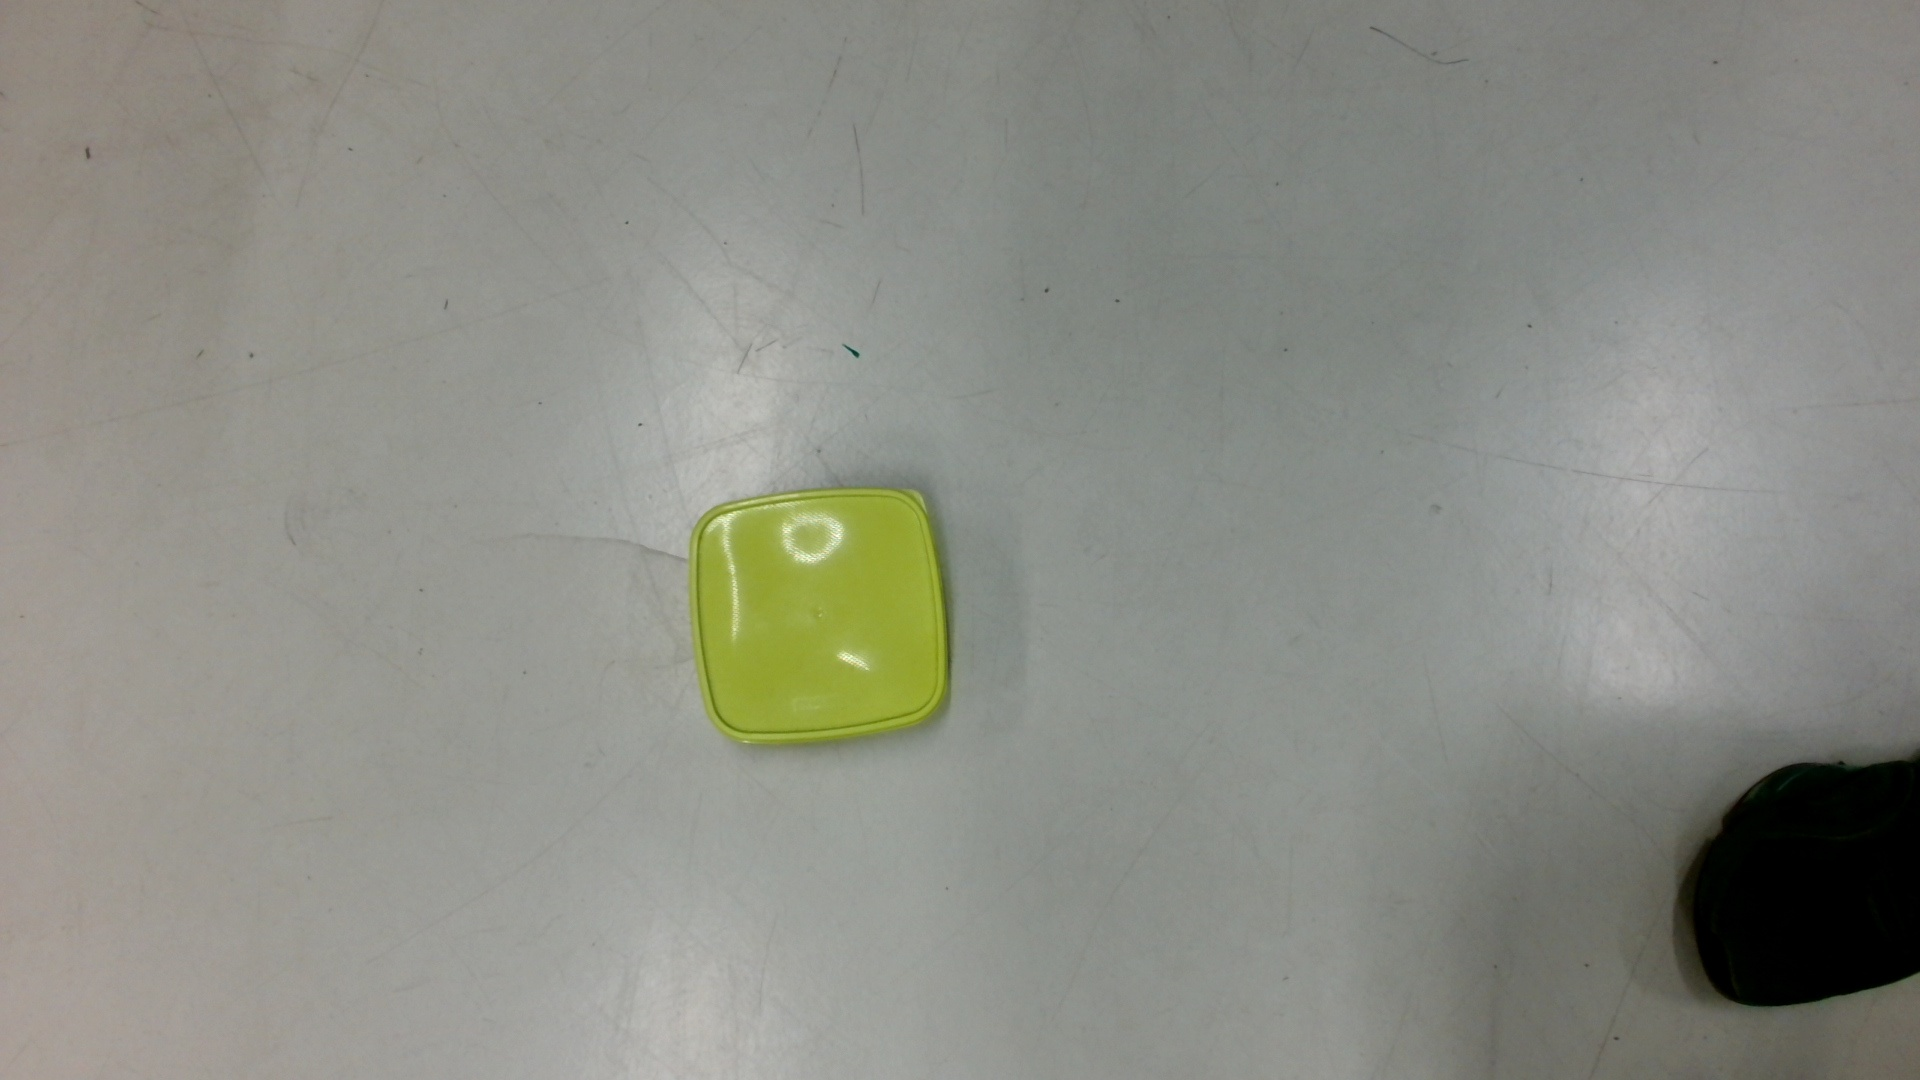Box: (676, 481, 968, 754)
